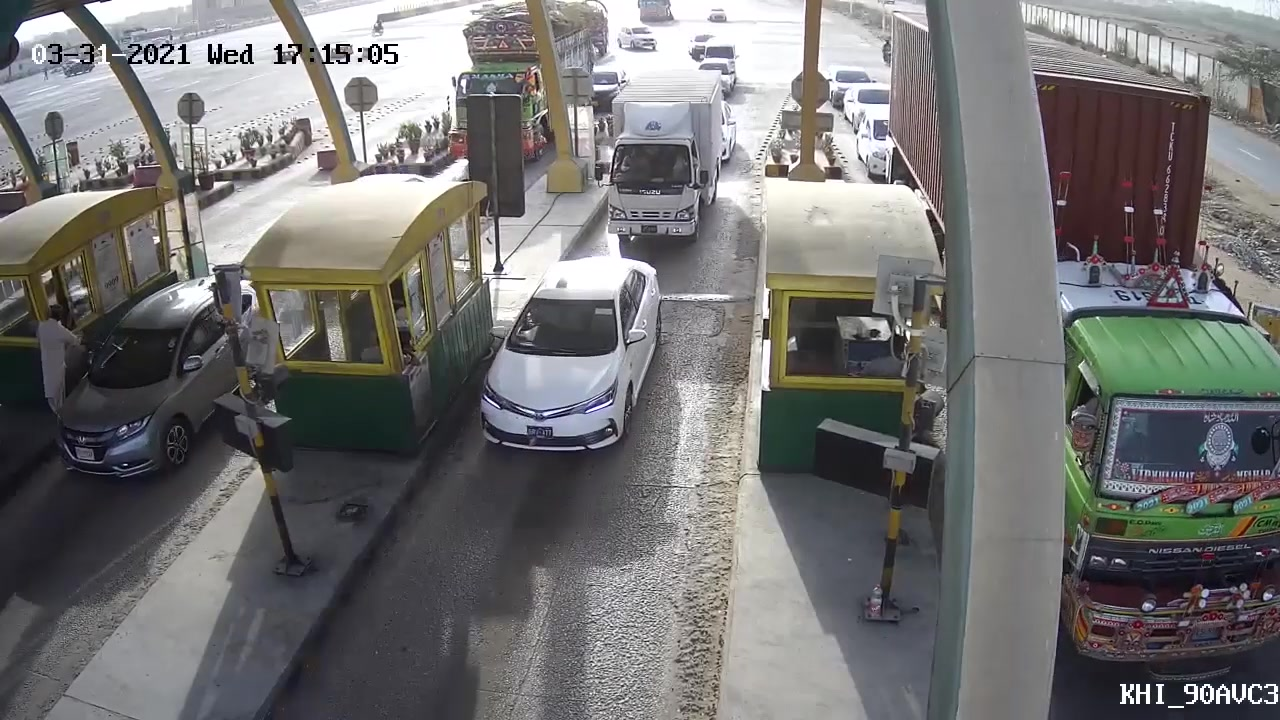F1: (459, 239, 673, 475)
F3: (597, 73, 730, 240)
